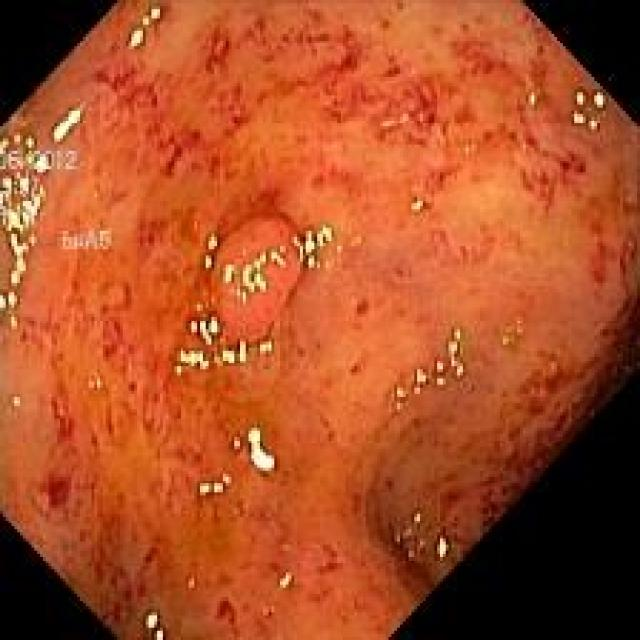Polyps: (0, 1, 640, 639), (216, 219, 301, 341)
